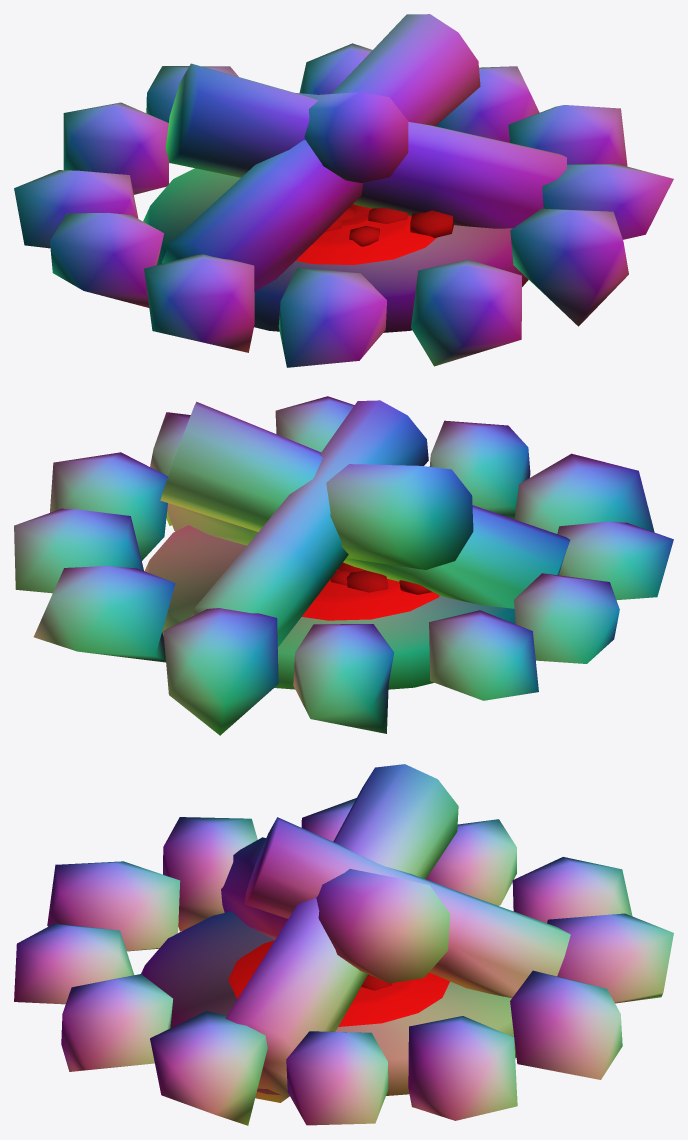
Rendered from SM_Prop_March_Hearth.fbx.
3 views of the same model, one above another, from view 1: azimuth 30°, elevation 25°; view 2: azimuth 150°, elevation 25°; view 3: azimuth 270°, elevation 25° (orthographic). The views are drawn at different scales.
Visible parts, largest first — view 1: SM_Prop_March_Hearth; view 2: SM_Prop_March_Hearth; view 3: SM_Prop_March_Hearth.
Boxes of the visible parts, bbox=[...] form: SM_Prop_March_Hearth: bbox=[14, 14, 673, 367]; SM_Prop_March_Hearth: bbox=[14, 396, 673, 735]; SM_Prop_March_Hearth: bbox=[14, 764, 673, 1125].
Bounding box in the file's own units: 1.05 × 0.3477 × 1.03.
